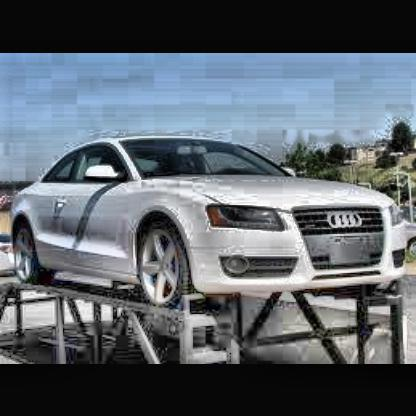Audi A5 Coupe 2012: (12, 132, 410, 331)
